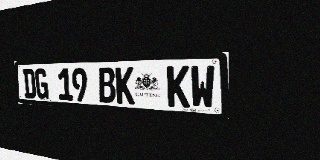1: (57, 68, 73, 101)
9: (71, 68, 88, 102)
B: (98, 67, 116, 103)
D: (22, 69, 36, 99)
G: (34, 69, 49, 99)
K: (167, 66, 190, 108), (115, 67, 135, 104)
W: (190, 65, 215, 109)
